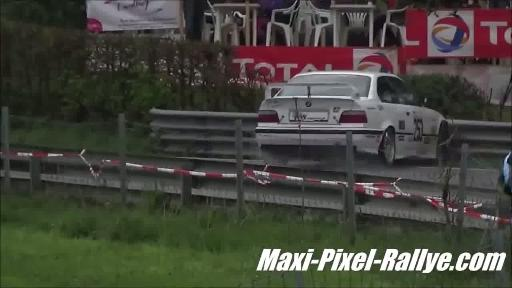Accident: (255, 62, 474, 170)
